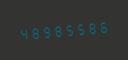eight: (29, 23, 40, 42), (53, 20, 64, 39), (89, 17, 100, 36)
five: (65, 19, 76, 38), (77, 18, 88, 37)
four: (17, 24, 28, 43)
nine: (41, 22, 52, 40)
six: (101, 16, 112, 35)
